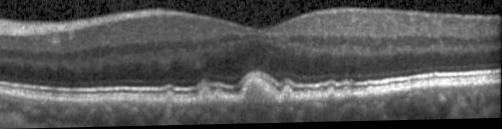retinal_drusen: (244, 81, 279, 104), (200, 89, 211, 104), (215, 89, 227, 101), (283, 89, 293, 102), (164, 94, 175, 104), (343, 90, 353, 99), (328, 91, 336, 101)
